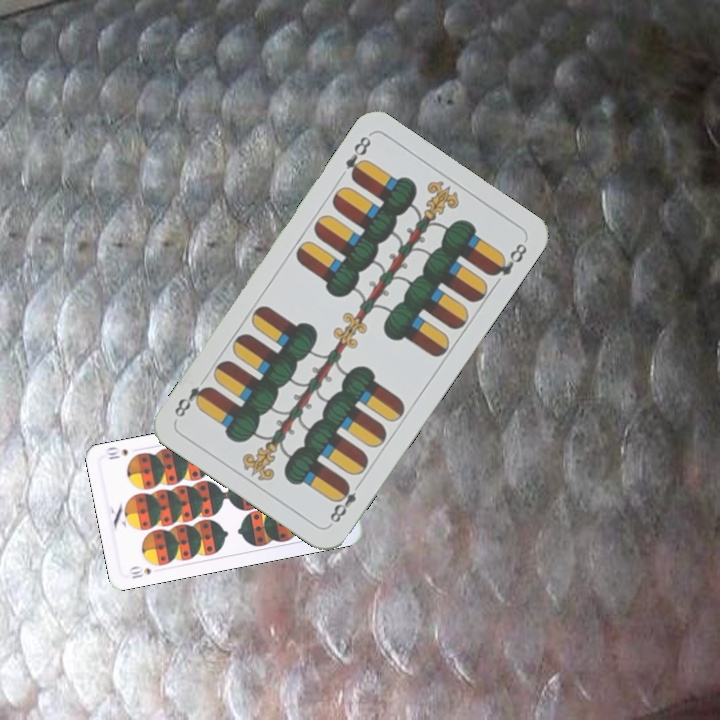E8: (325, 476, 365, 526), (341, 131, 374, 184)
S10: (125, 562, 154, 581)
